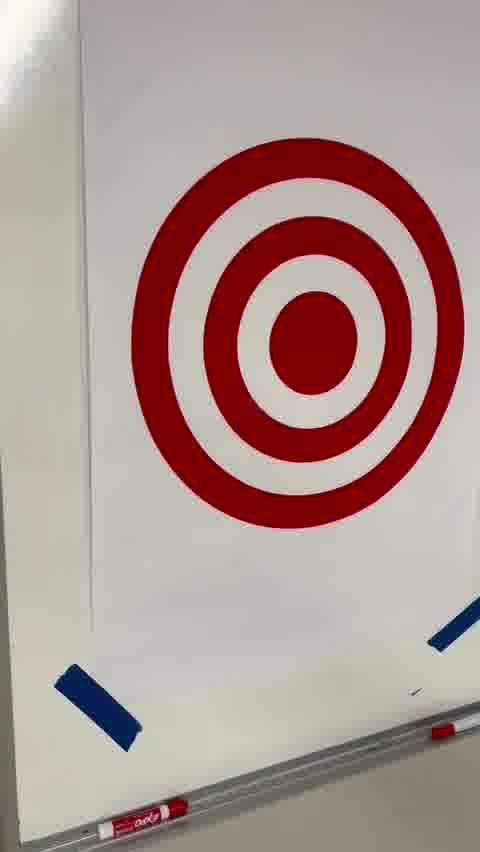target_red: (132, 136, 467, 529)
